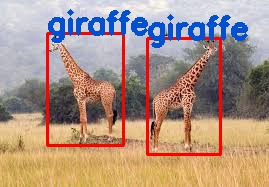giraffe: (46, 33, 122, 144), (147, 37, 219, 154)
